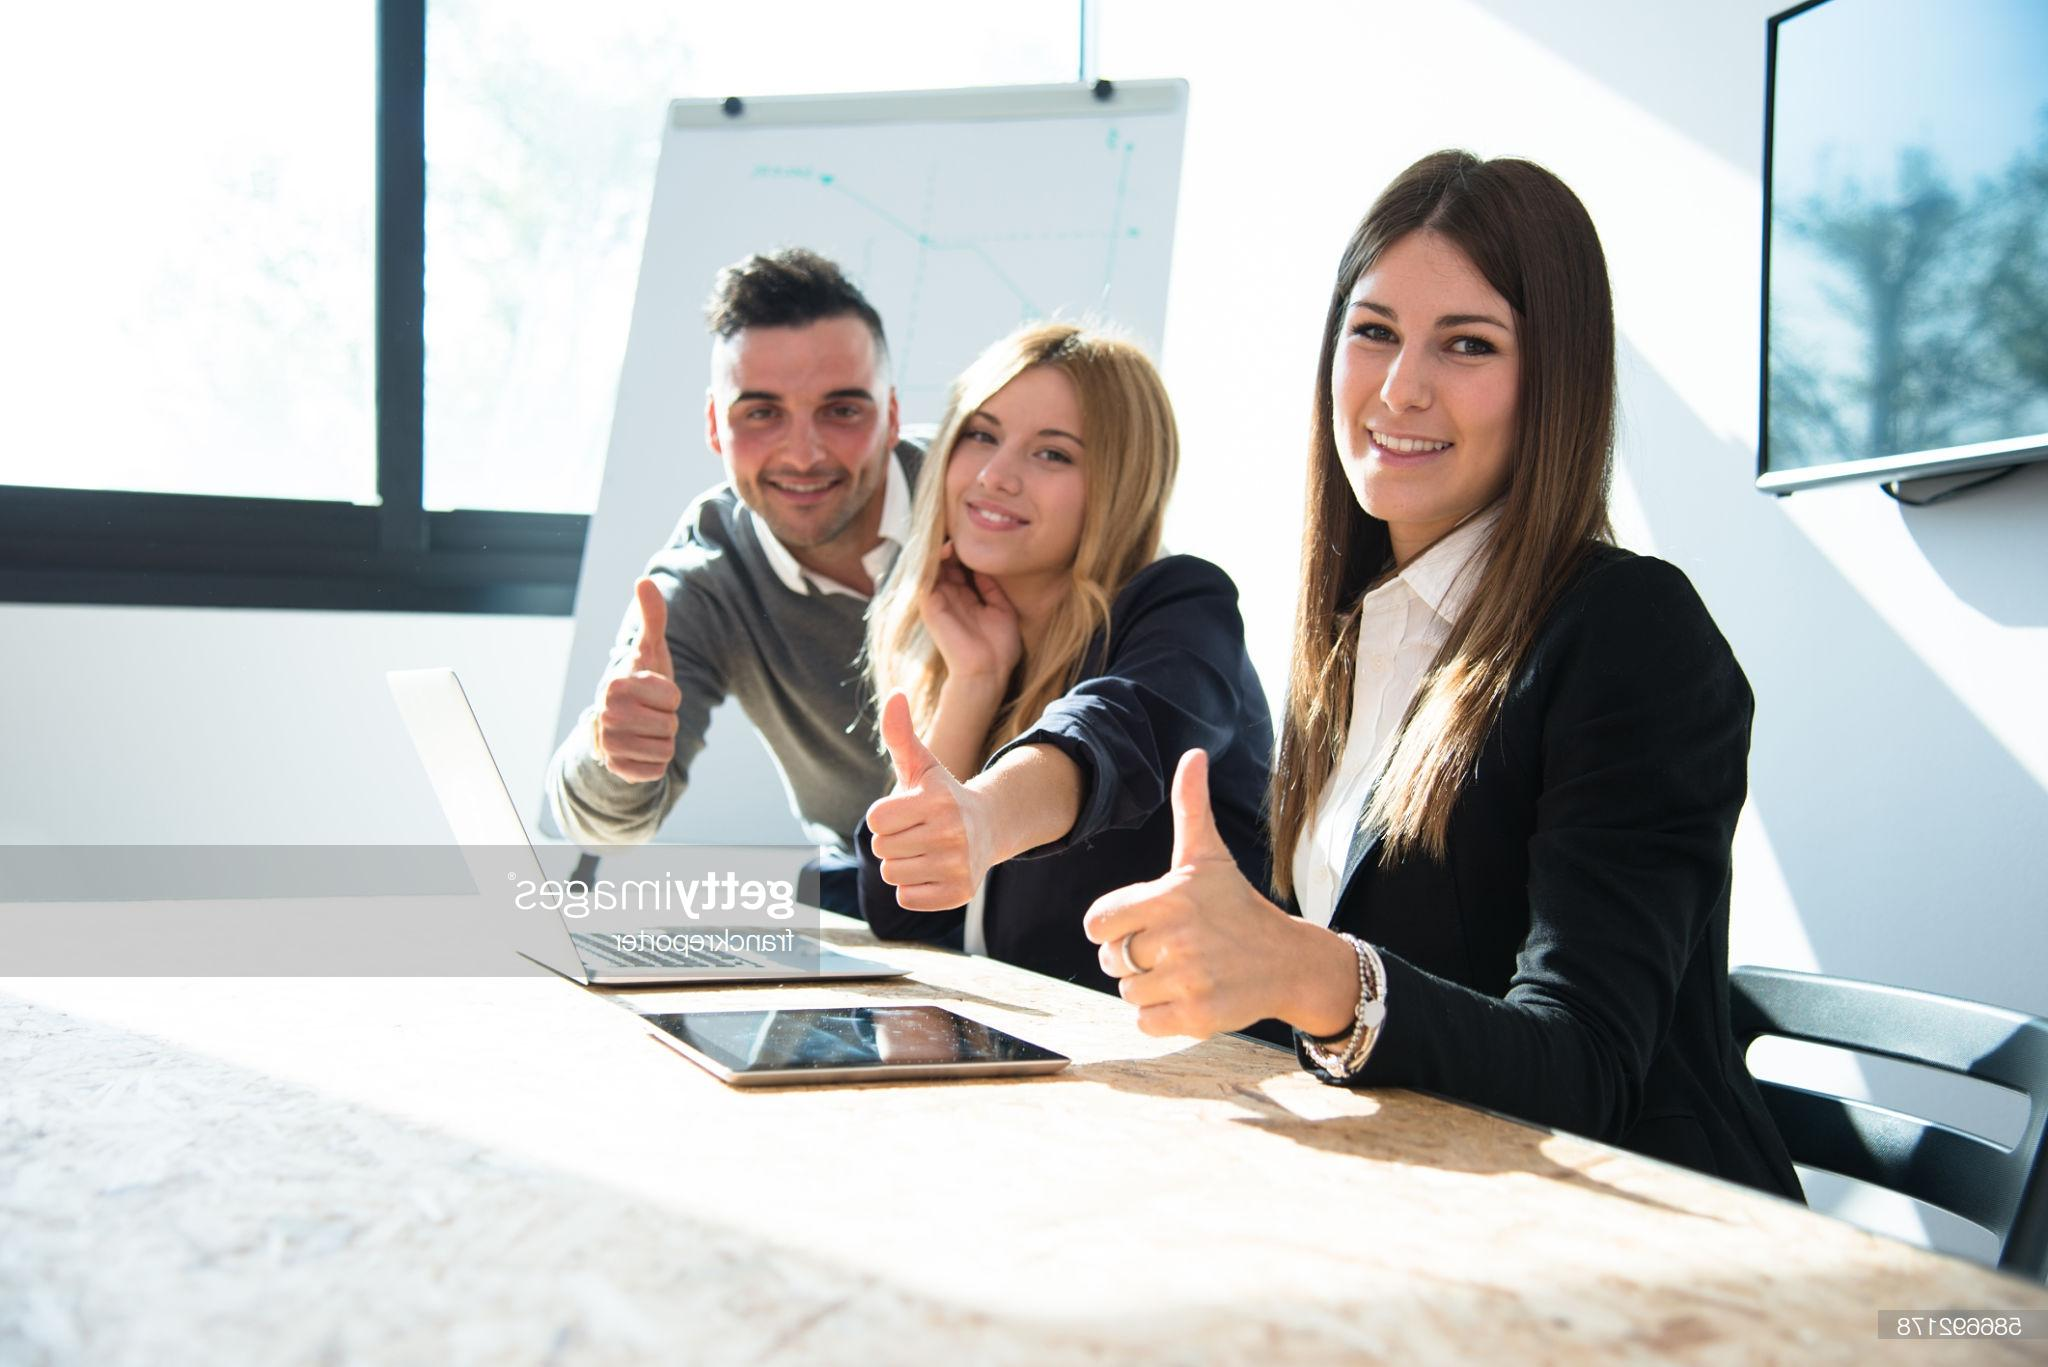thumbsup: (1083, 745, 1247, 1039), (865, 691, 979, 912), (601, 577, 682, 783)
